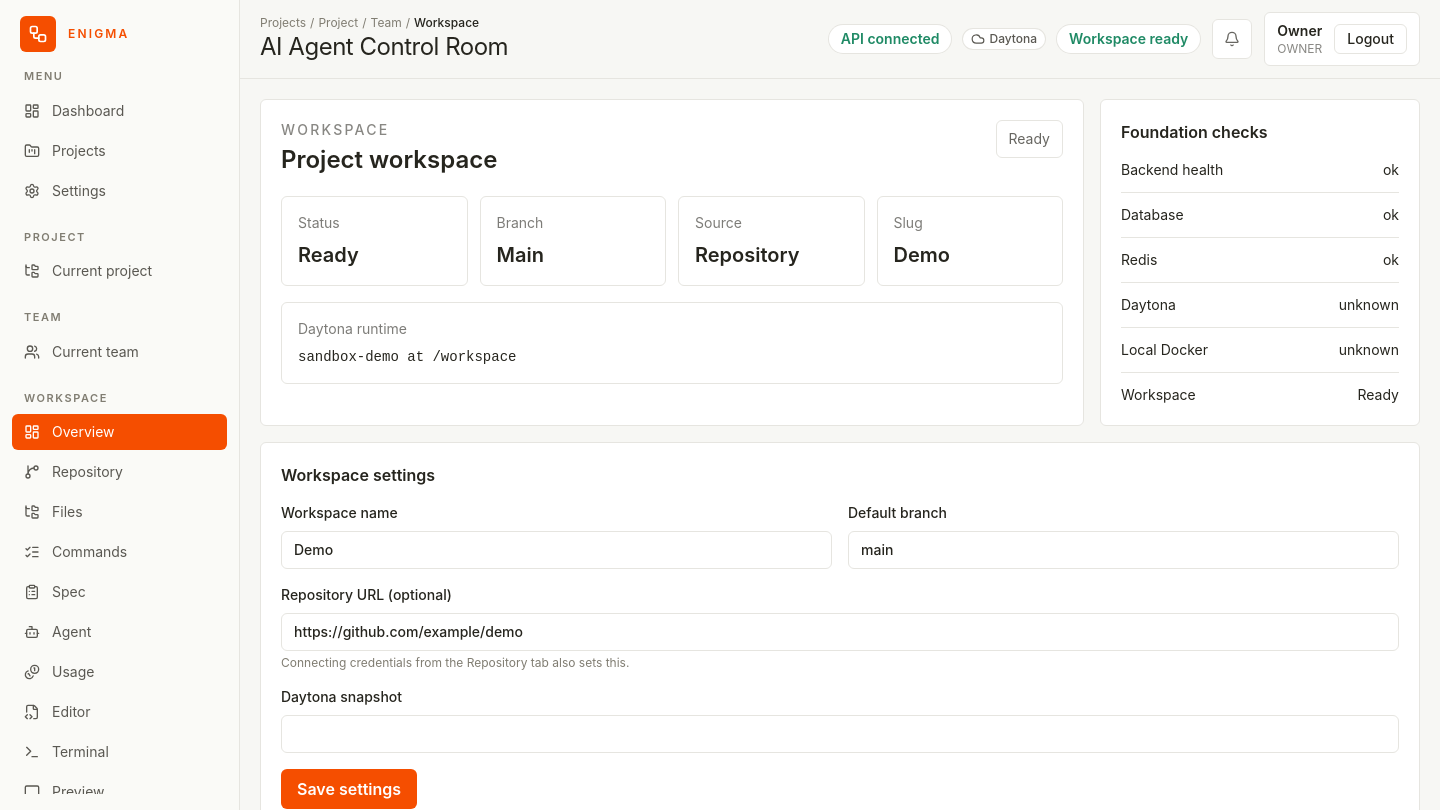
App auth routing › renders repository controls and handles diff commit and push flows
Click the link "Repository" at (73,472), box x1=24 y1=463 x2=123 y2=480
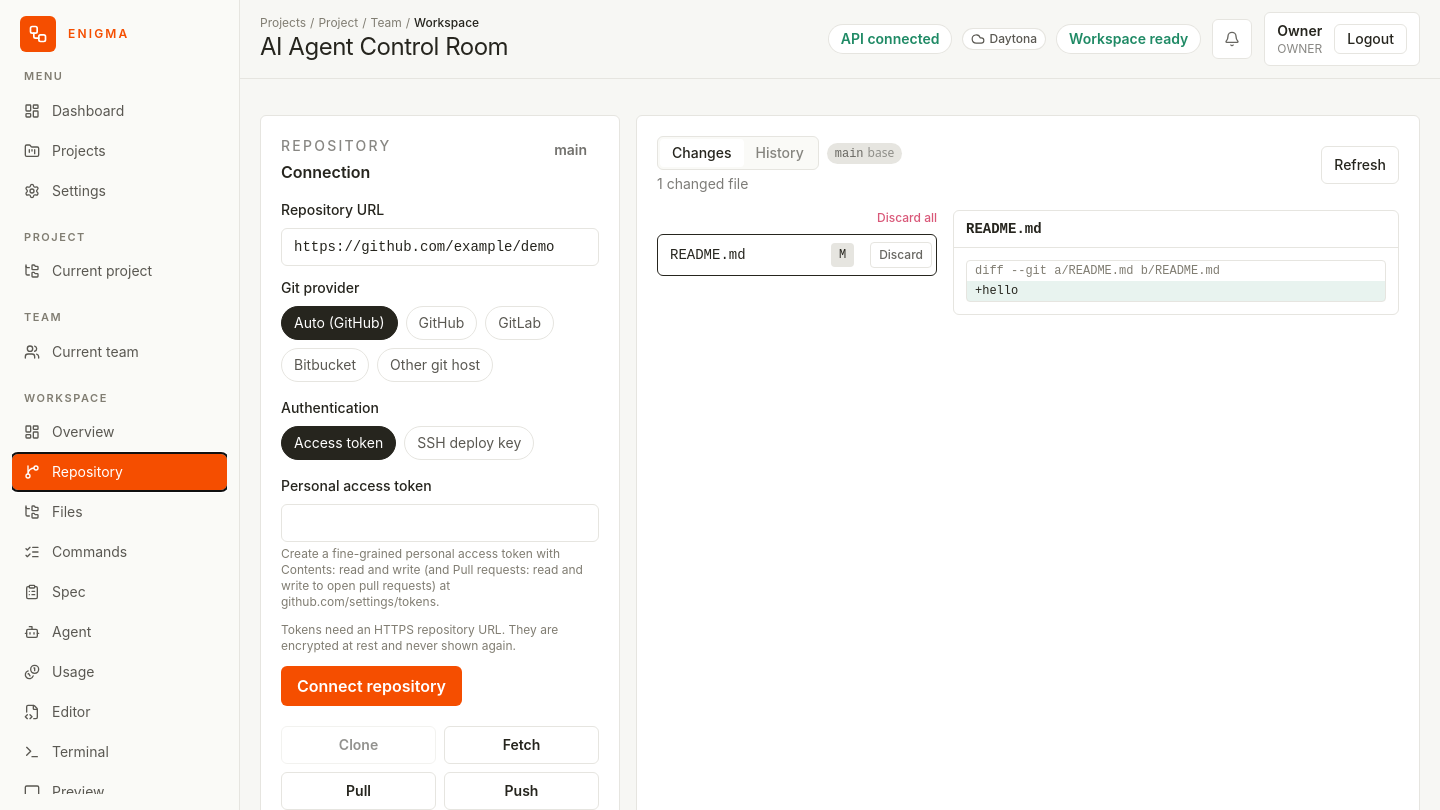
Result: the button "Connect repository" is shown at x1=281 y1=666 x2=462 y2=706
Result: the text "README.md" is shown 2 times at x1=670 y1=245 x2=746 y2=265; x1=966 y1=221 x2=1042 y2=237
Result: the text "diff --git a/README.md b/README.md" is shown at x1=975 y1=264 x2=1220 y2=278
Type "raw-secret" into the password field labelled "Personal access token" at (440,523), box x1=281 y1=504 x2=599 y2=542
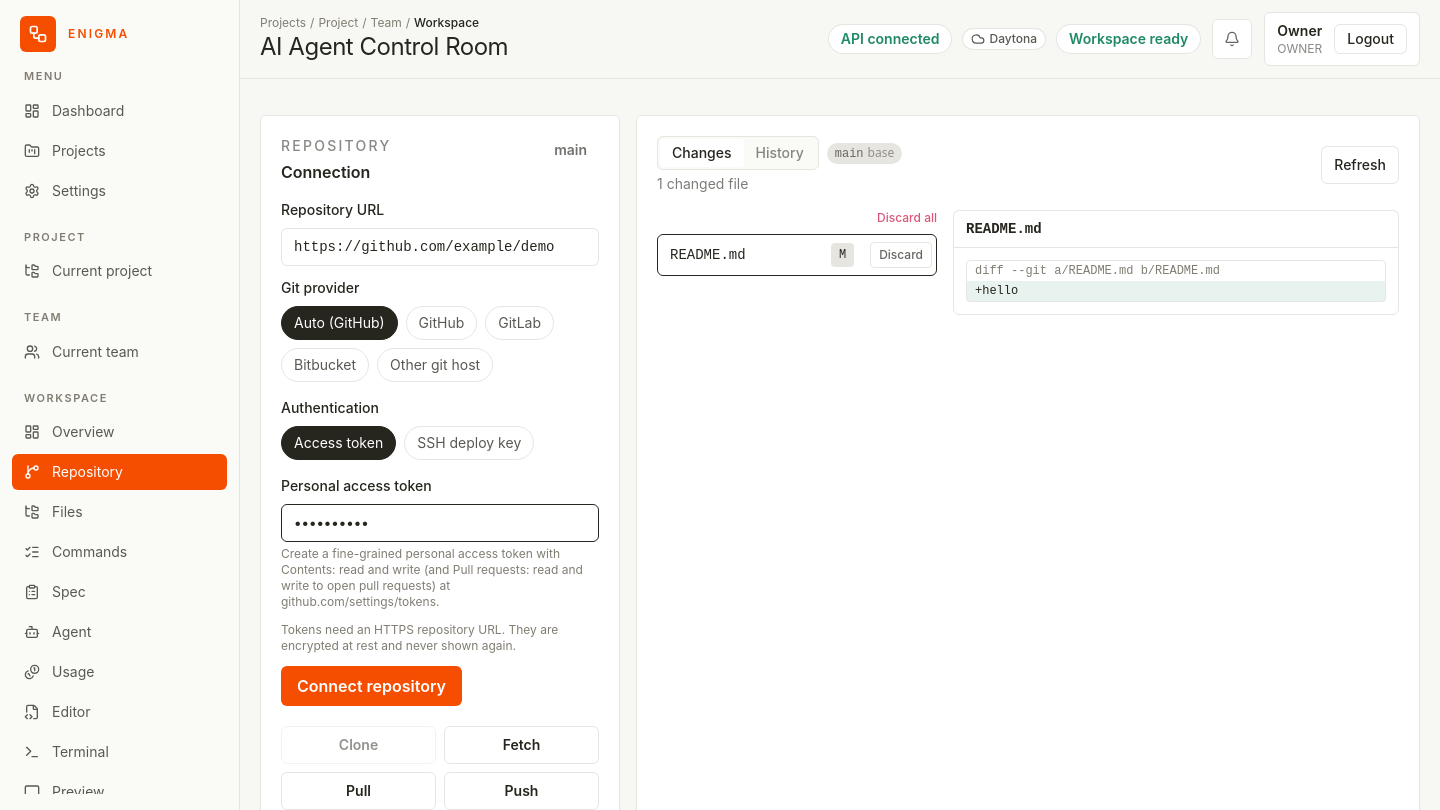
Click the button "Connect repository" at (372,686), box x1=281 y1=666 x2=462 y2=706
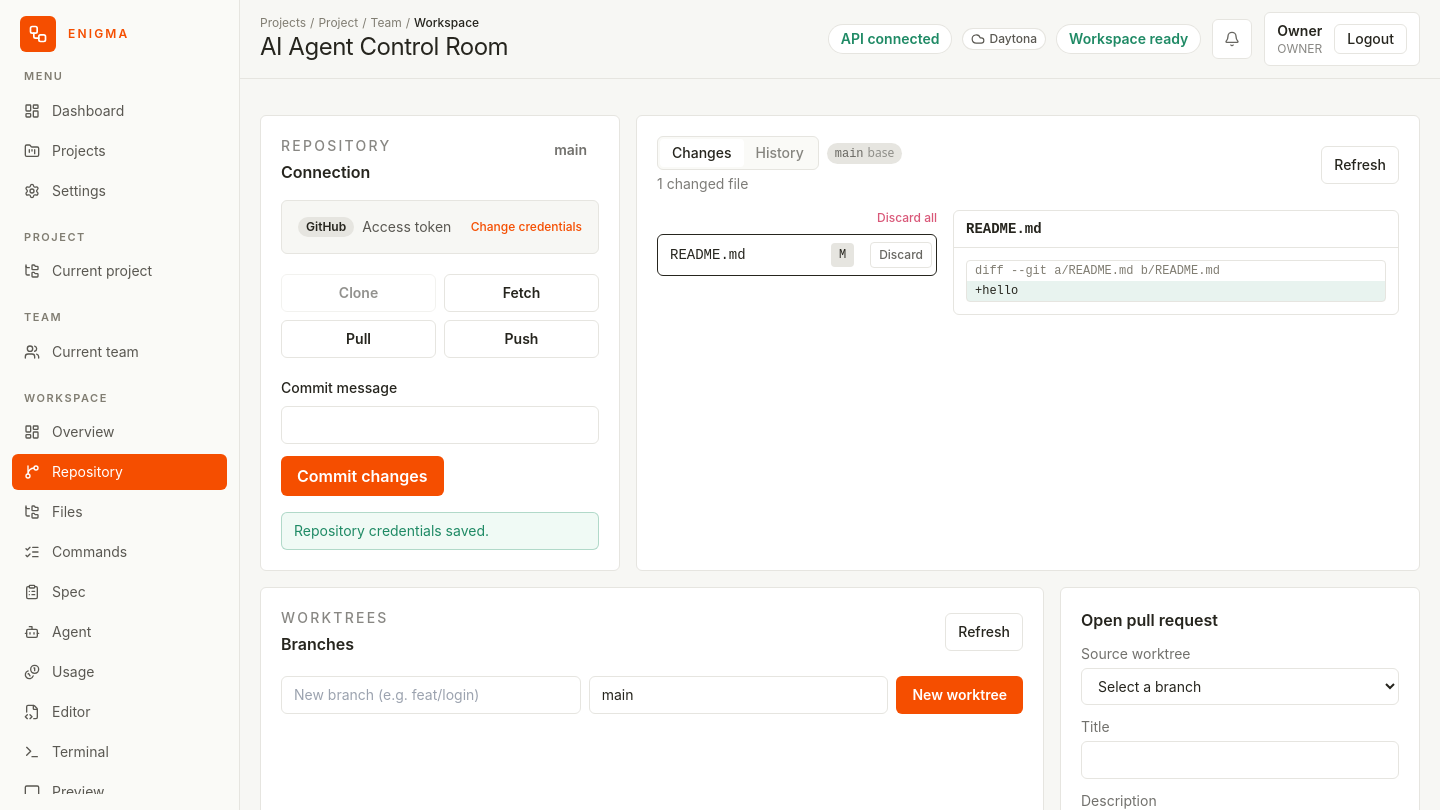
Result: the text "Repository credentials saved." is shown at x1=281 y1=512 x2=599 y2=550
Type "Update README" into the field labelled "Commit message" at (440,425), box x1=281 y1=406 x2=599 y2=444
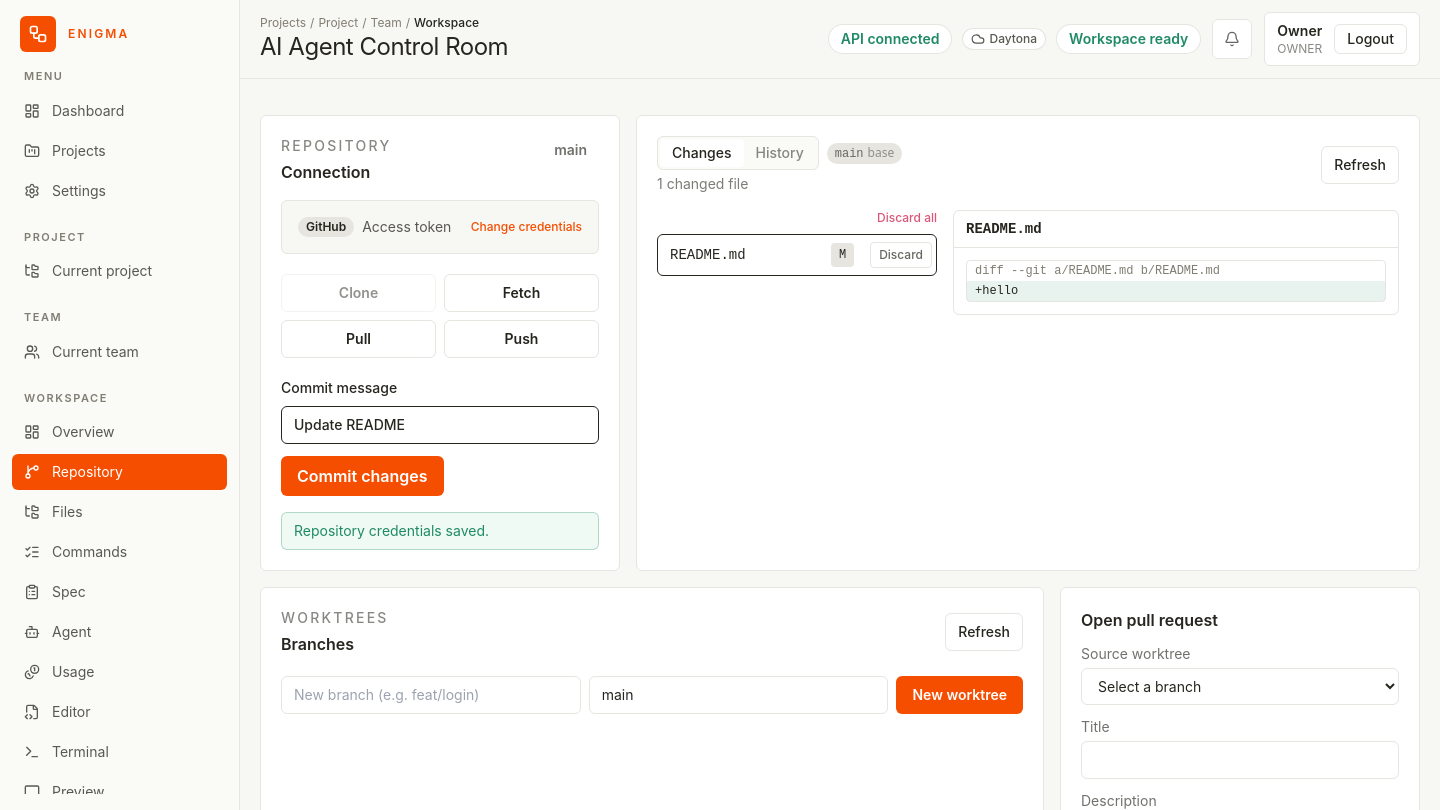
Click the button "Commit changes" at (362,476), box x1=281 y1=456 x2=444 y2=496
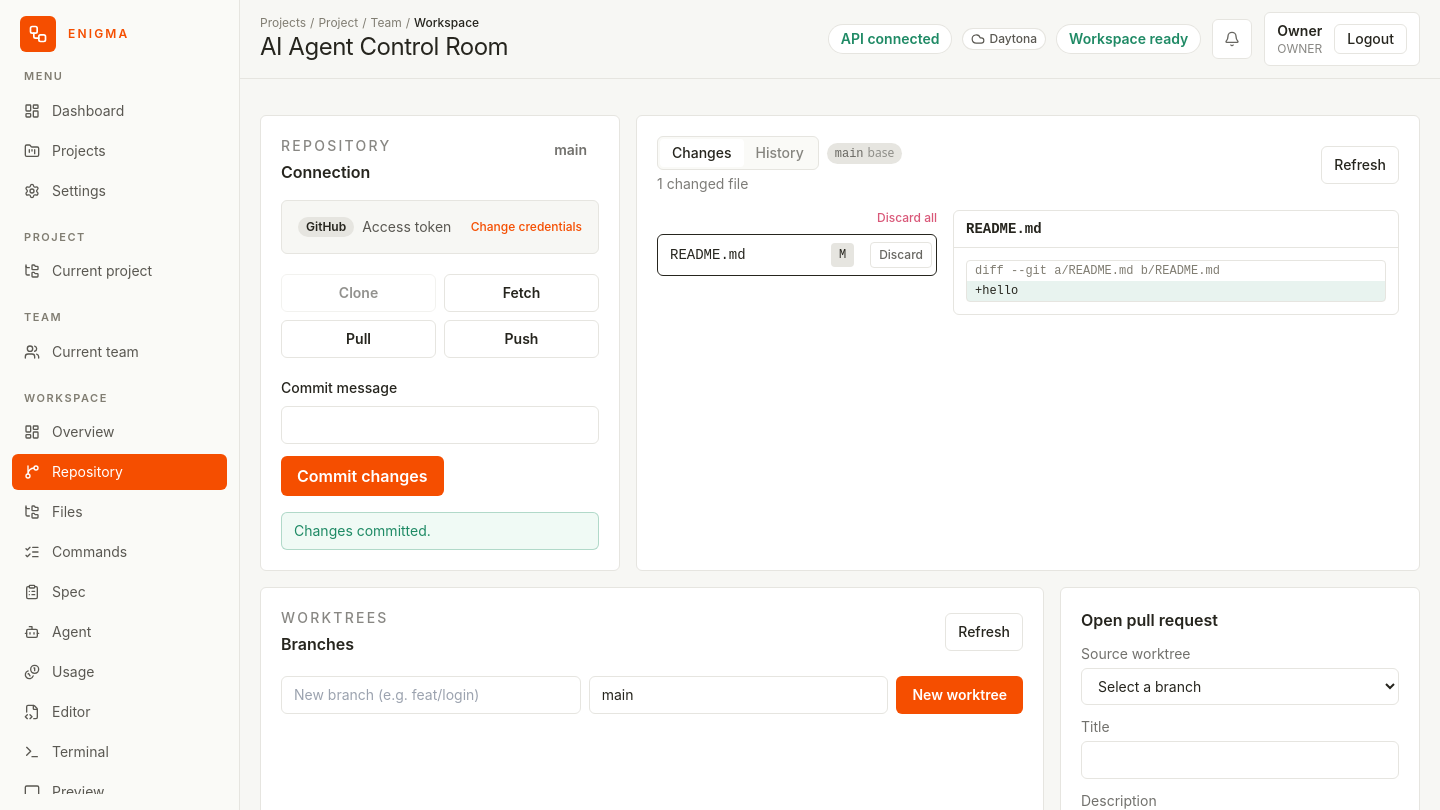
Result: the text "Changes committed." is shown at x1=281 y1=512 x2=599 y2=550
Click the button "Push" at (522,339), box x1=444 y1=320 x2=599 y2=358
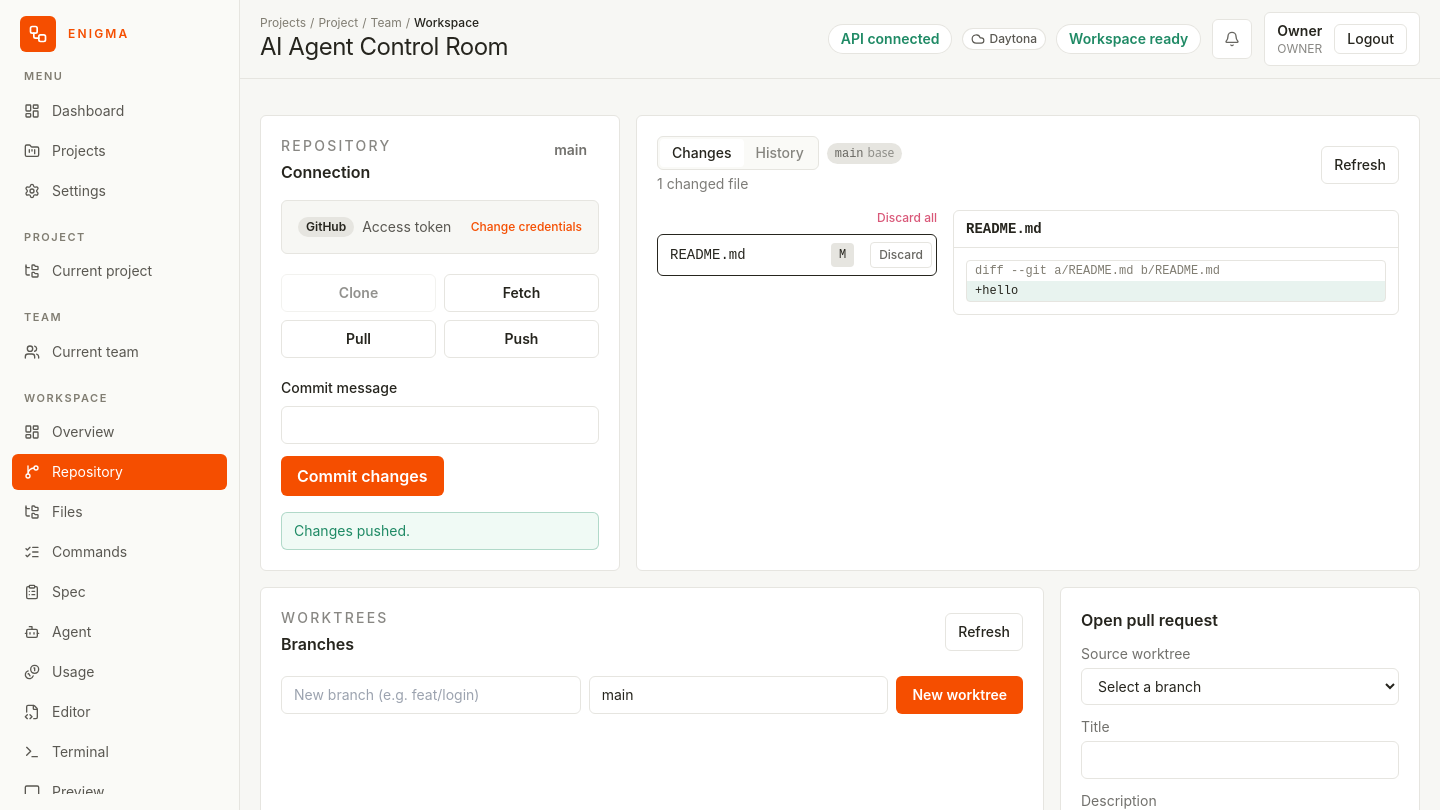
Result: the text "Changes pushed." is shown at x1=281 y1=512 x2=599 y2=550
